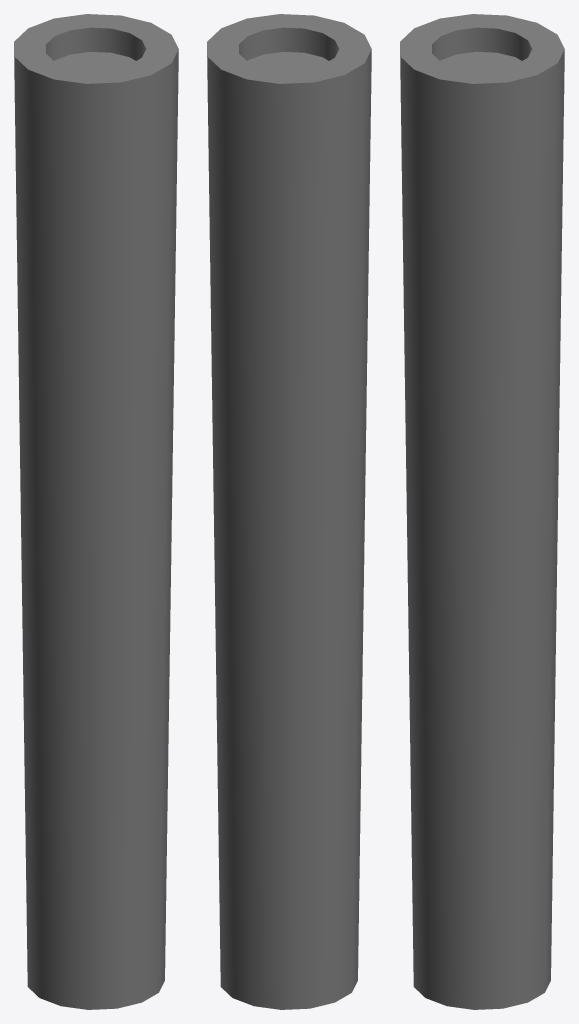
The model's file is Fence 8 (pillar).fbx.
3 renders of one model, left to right at view 1: azimuth 30°, elevation 25°; view 2: azimuth 150°, elevation 25°; view 3: azimuth 270°, elevation 25°, orthographic.
Visible parts, largest first — view 1: Fence 8 (pillar); view 2: Fence 8 (pillar); view 3: Fence 8 (pillar).
Part boxes in pixels (x1,y1,x2,y2): Fence 8 (pillar): [14, 14, 178, 1009]; Fence 8 (pillar): [207, 14, 371, 1009]; Fence 8 (pillar): [400, 14, 564, 1009].
Bounding box in the file's own units: 37.03 × 230 × 36.82.
